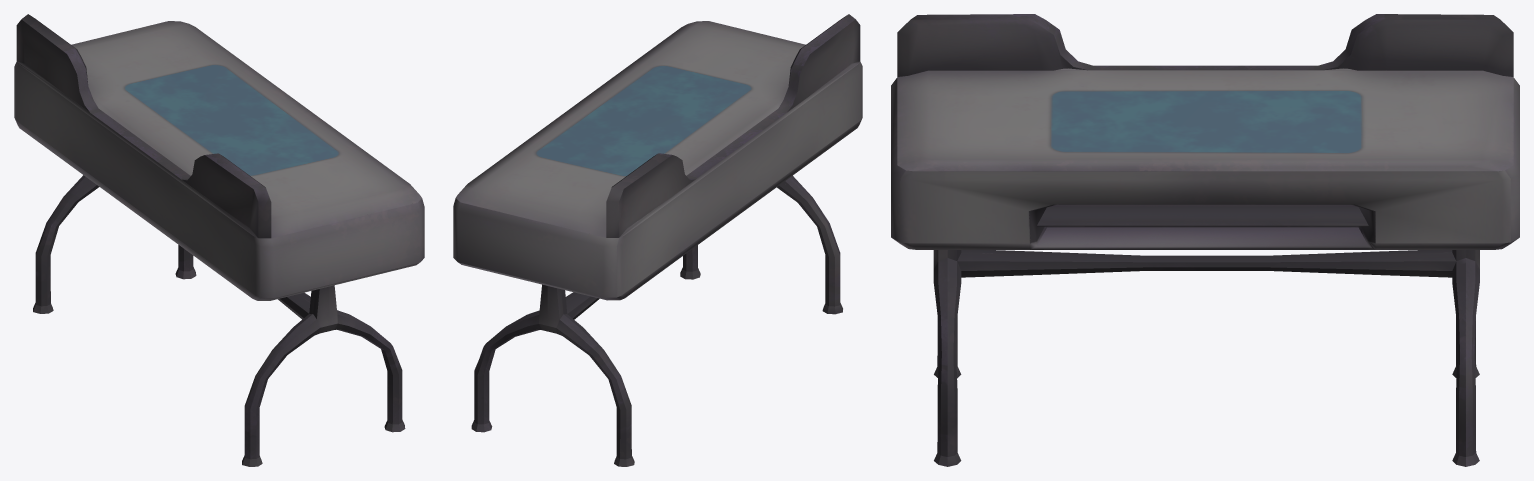
The model's file is desk.fbx.
3 views of the same model, side by side, from view 1: azimuth 30°, elevation 25°; view 2: azimuth 150°, elevation 25°; view 3: azimuth 270°, elevation 25° (orthographic). The views are drawn at different scales.
Parts seen in each view (by area): view 1: bo.desk DONE; view 2: bo.desk DONE; view 3: bo.desk DONE.
Boxes of the visible parts, x1,y1,x2,y2 form: bo.desk DONE: (14,14,424,466); bo.desk DONE: (453,14,862,466); bo.desk DONE: (891,14,1519,466).
Size of the model in its own units: 51.62 by 84.45 by 136.
